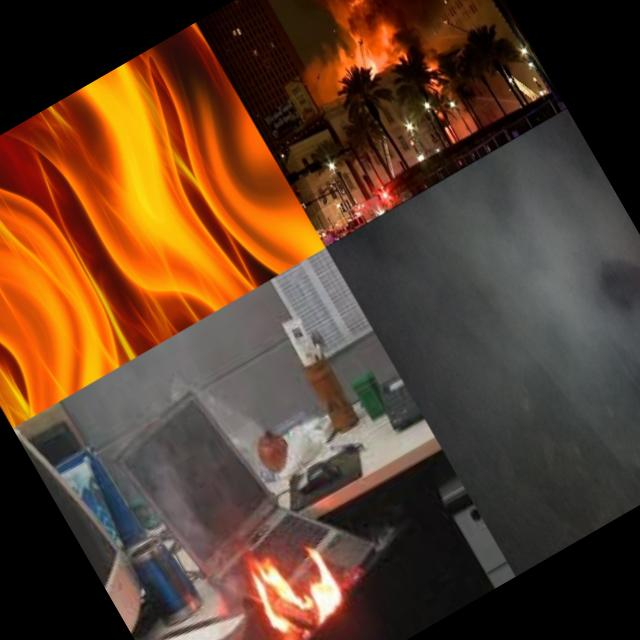fire: (0, 22, 326, 428), (238, 532, 354, 640), (347, 33, 386, 81), (368, 28, 406, 68)
smoke: (326, 121, 640, 576), (106, 434, 283, 640), (570, 150, 640, 271), (292, 33, 368, 108), (311, 0, 397, 46)
